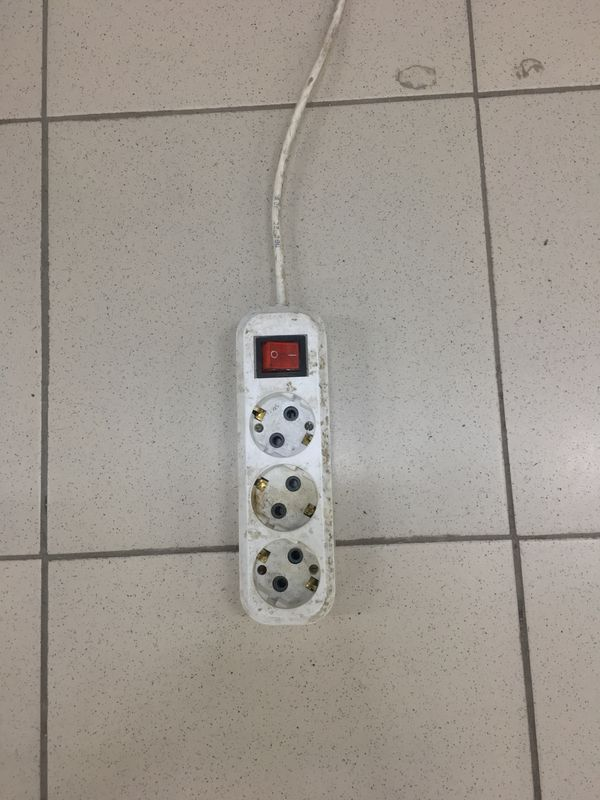socket: (228, 299, 346, 630)
